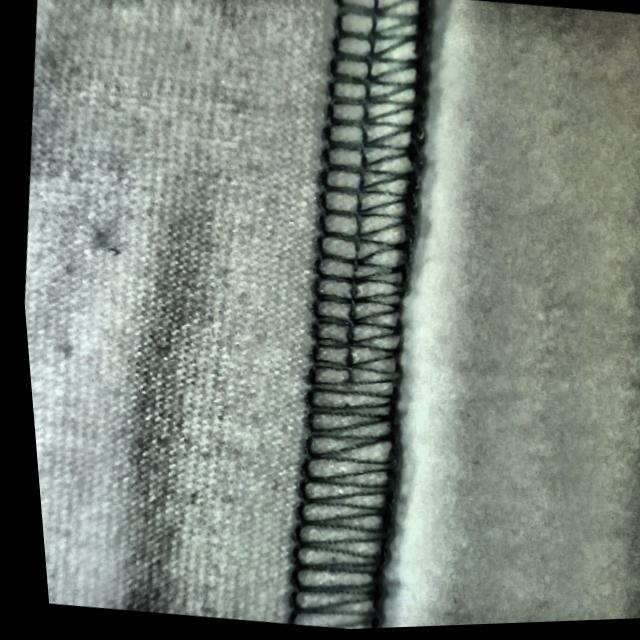Stitch: (246, 136, 447, 621)
